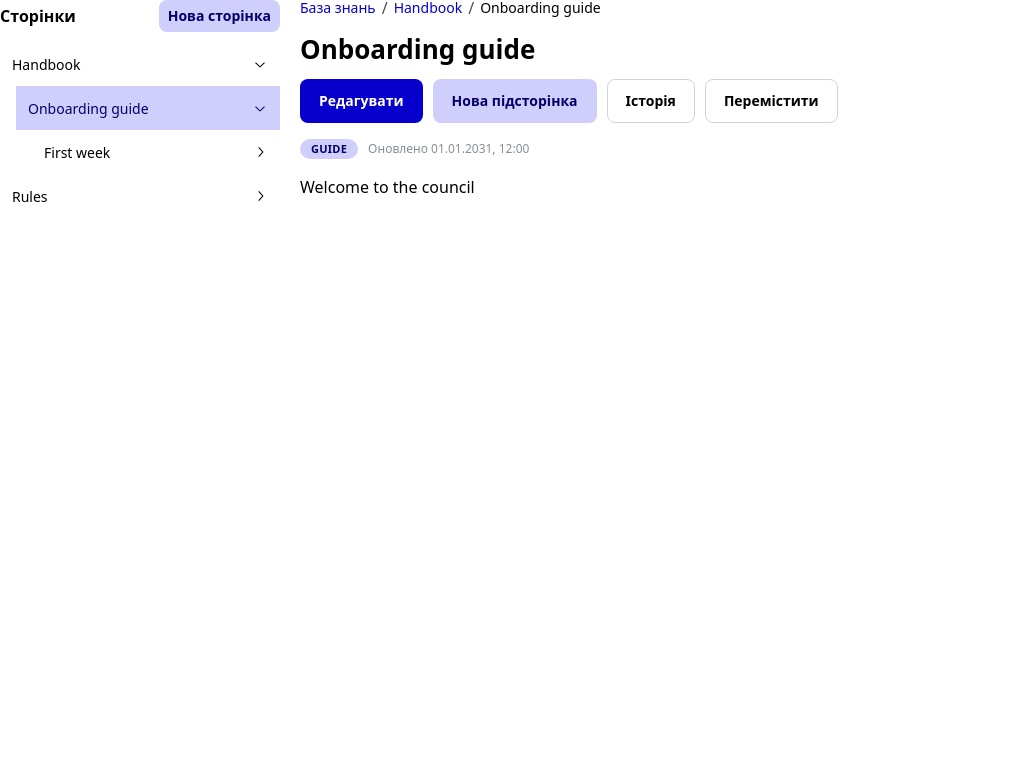
Scenario: version history › shows the problem when the server answers 403
Click the button "Історія".
click(651, 101)  # box [606,79,695,123]
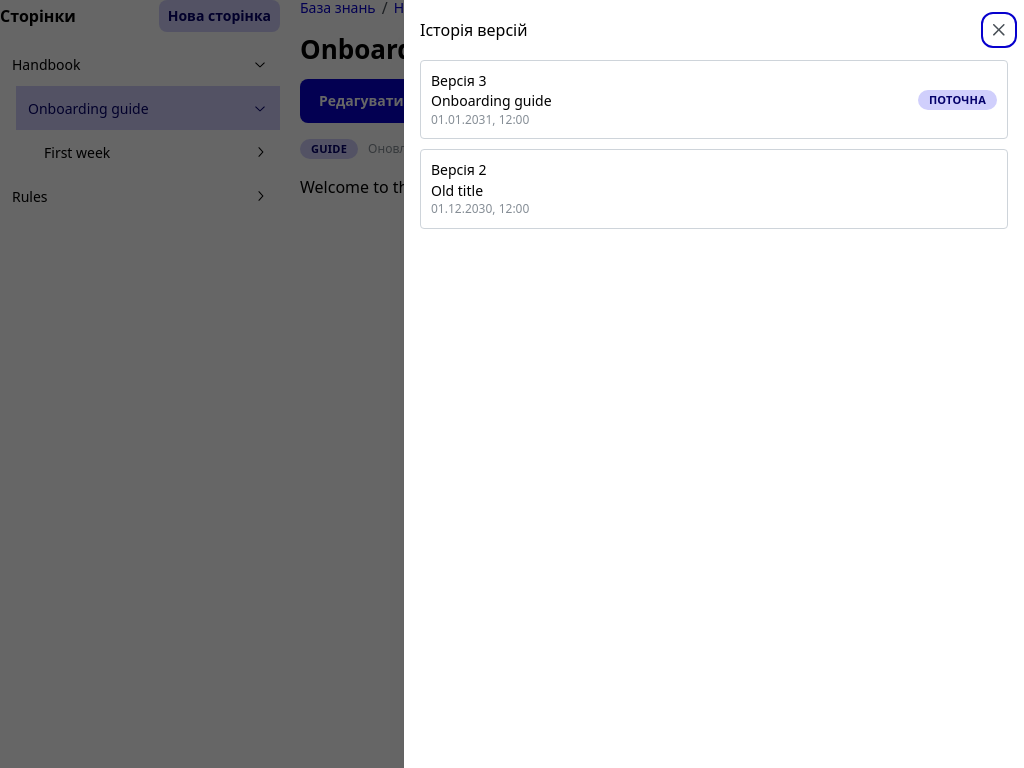
Click the text "Old title".
click(457, 190)  # box [431,181,483,200]
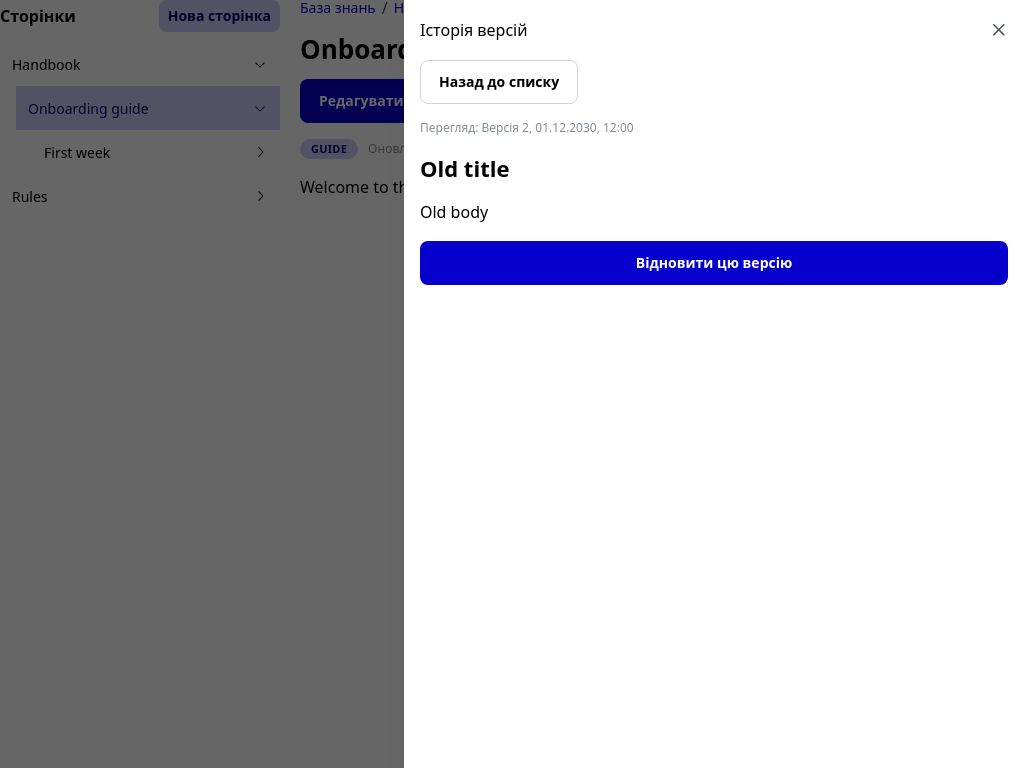
Click the button "Відновити цю версію".
click(714, 263)  # box [420,241,1008,285]
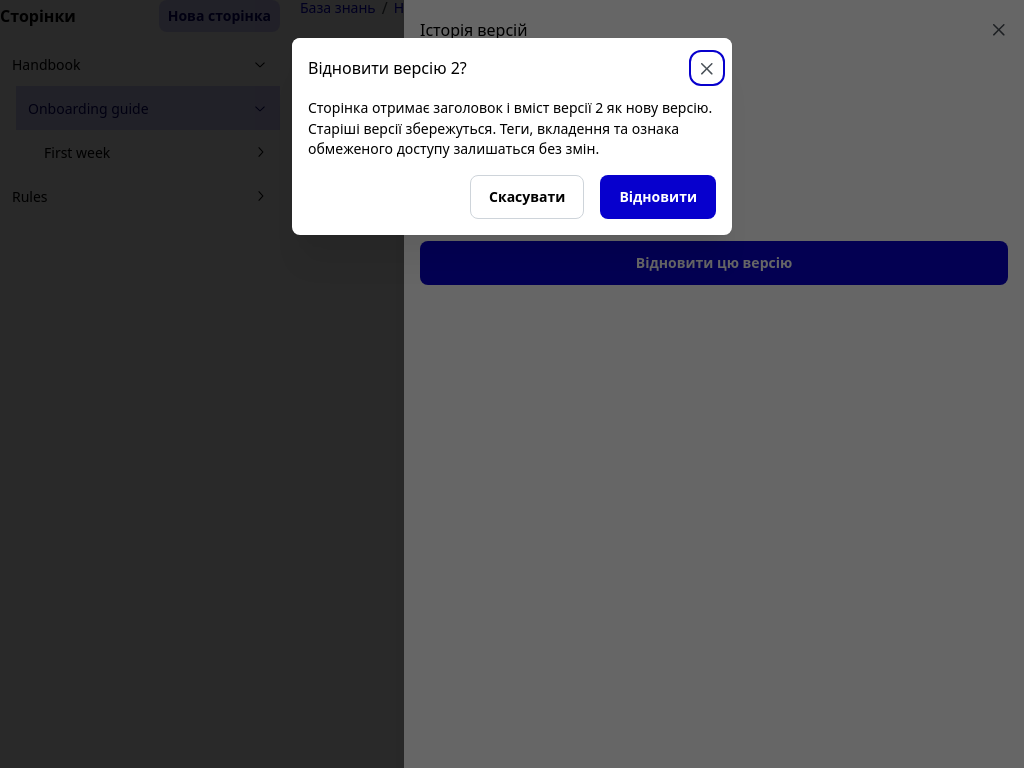
Click the button "Відновити".
click(658, 197)  # box [600,175,716,219]
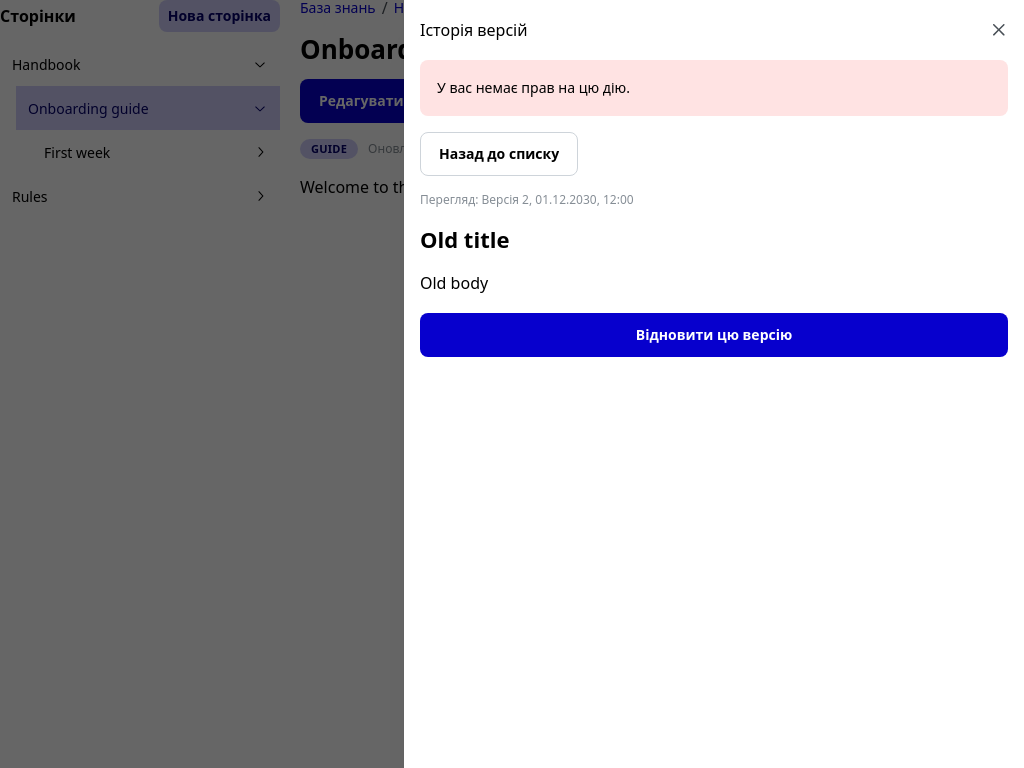
Check: the message "У вас немає прав на цю дію." is shown, box [420,60,1008,116]
